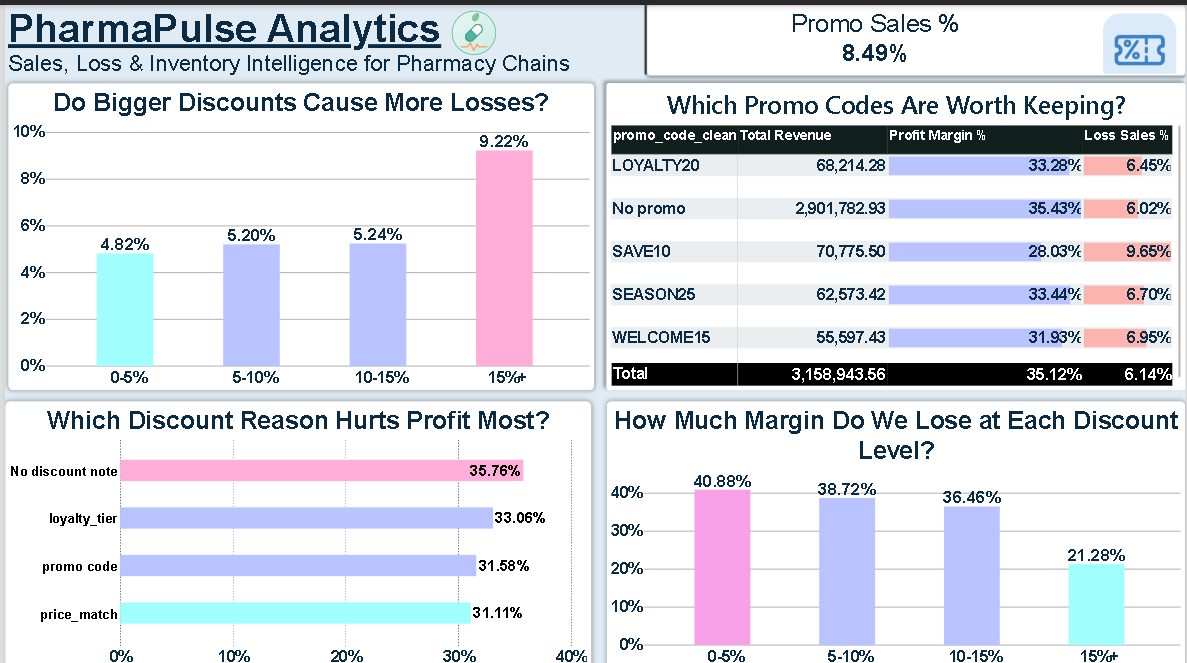

Layout of this report page (visuals, bound fields, positions):
{"tool":"powerbi","page":{"name":"Discounts & Promotions","canvas":[3840,2160],"ordinal":3},"visuals":[{"type":"textbox","box":[9.8,0,2078.7,229.3],"z":0},{"type":"image","box":[1369.4,0,309.1,181.2],"z":1000},{"type":"clusteredColumnChart","title":"Do Bigger Discounts Cause More Losses?","fields":{"Category":["Sales_clean.discount_band"],"Y":["Sales_clean.Loss Sales %"]},"box":[9.8,253.7,1907.9,1000.3],"z":2000},{"type":"clusteredColumnChart","title":"How Much Margin Do We Lose at Each Discount Level?","fields":{"Category":["Sales_clean.discount_band"],"Y":["Sales_clean.Profit Margin %"]},"box":[1956.7,1288.2,1883.5,873.5],"z":3000},{"type":"clusteredBarChart","title":"Which Discount Reason Hurts Profit Most?","fields":{"Category":["Sales_clean.discount_reason_clean"],"Y":["Sales_clean.Profit Margin %"]},"box":[0,1288.2,1907.9,873.5],"z":4000},{"type":"cardVisual","fields":{"Data":["Sales_clean.Promo Sales %"]},"box":[2088.5,0,1751.8,229.3],"z":5000},{"type":"pivotTable","title":"Which Promo Codes Are Worth Keeping?","fields":{"Rows":["Sales_clean.promo_code_clean"],"Values":["Sales_clean.Total Revenue","Sales_clean.Profit Margin %","Sales_clean.Loss Sales %"]},"box":[1956.7,253.7,1883.5,1000.3],"z":6000}]}

Visuals, with their boxes in screenshot pixels (x1, y1, x2, y2), scaled from the page's 3840x2160 canvas onto the 1187x663 screenshot:
textbox: [3,0,646,70]
image: [423,0,519,56]
"Do Bigger Discounts Cause More Losses?" clusteredColumnChart: [3,78,593,385]
"How Much Margin Do We Lose at Each Discount Level?" clusteredColumnChart: [605,395,1186,662]
"Which Discount Reason Hurts Profit Most?" clusteredBarChart: [0,395,590,662]
cardVisual - Sales_clean.Promo Sales %: [646,0,1186,70]
"Which Promo Codes Are Worth Keeping?" pivotTable: [605,78,1186,385]
